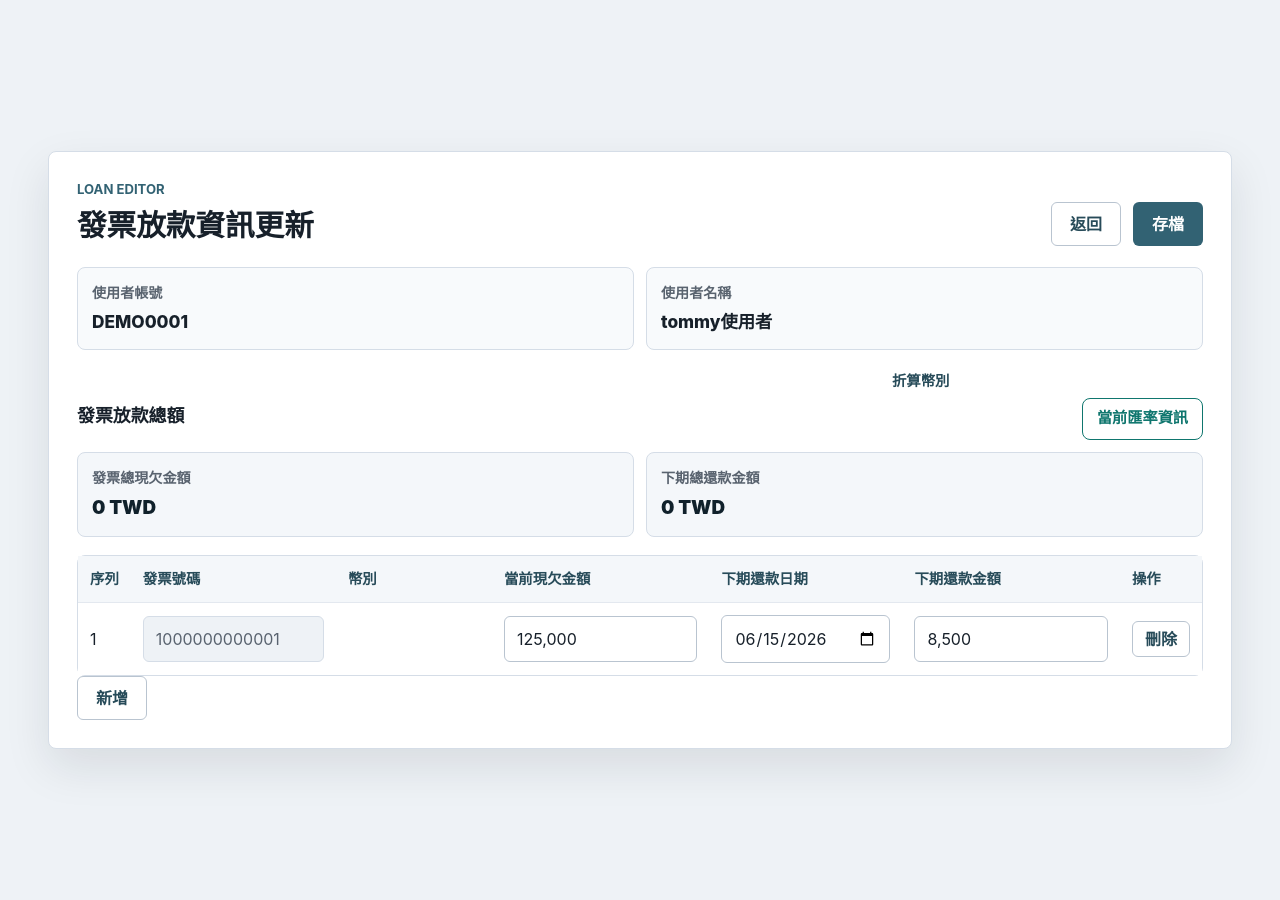
Test: UpdateLoansView › 新增資料缺少必填欄位時不可建檔
The width and height of the screenshot is (1280, 900).
What coordinates should you click on to do the following:
click the button "新增"
I would click on:
 (112, 698)
Its box is [77,676,147,720].
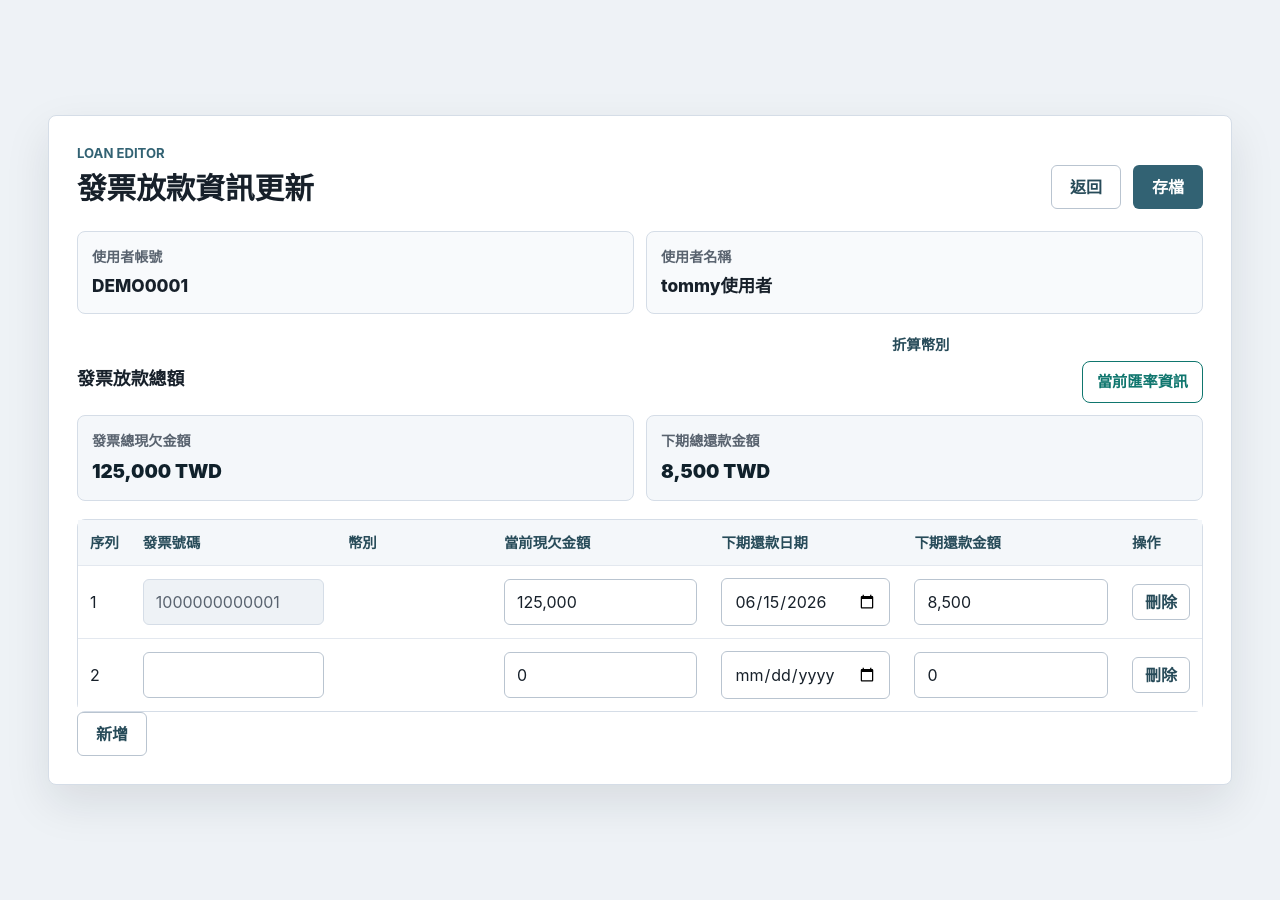
What coordinates should you click on to do the following:
click the button "存檔"
I would click on:
 (1168, 187)
Its box is [1133,165,1203,209].
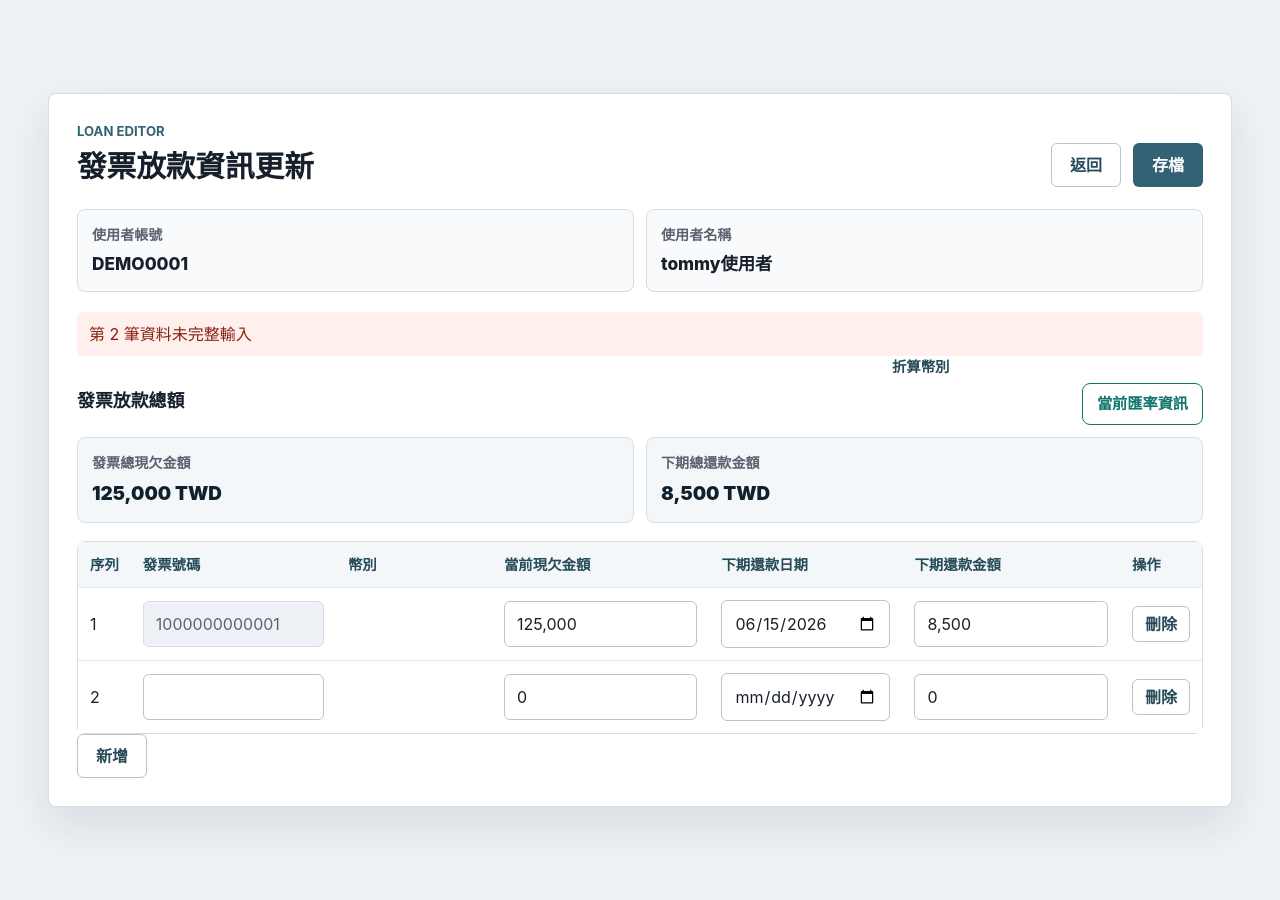
Expected: the message reads "第 2 筆資料未完整輸入", [89,324,252,344]
